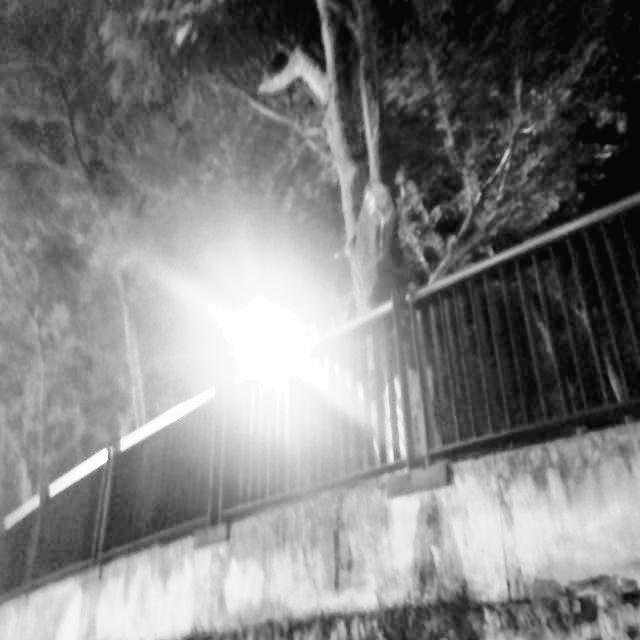Light: (249, 322, 293, 469)
Tree: (303, 0, 451, 451)
